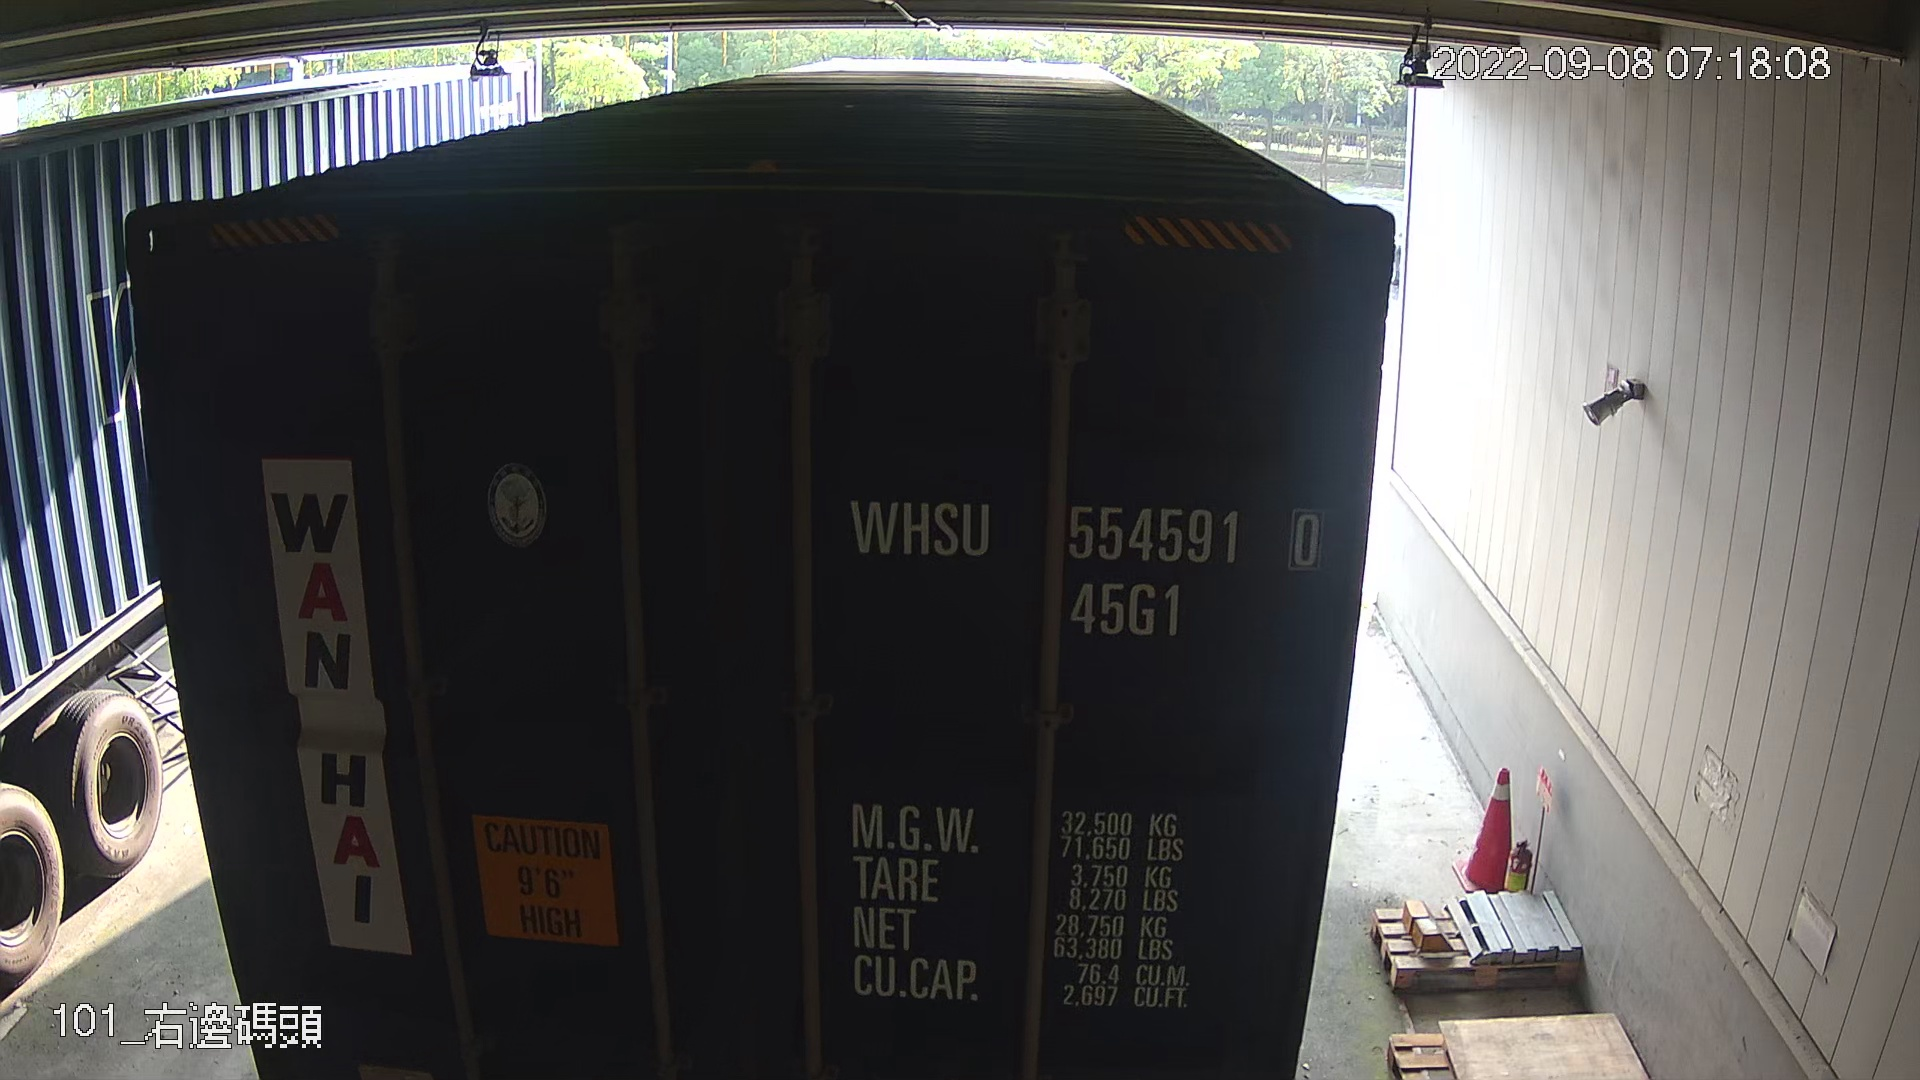container: (832, 479, 1337, 647)
